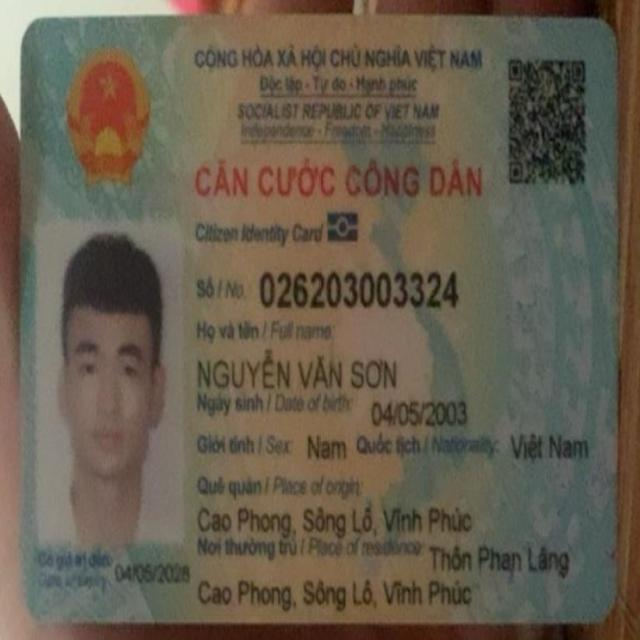current_place: (195, 573, 478, 620), (426, 538, 572, 581)
dob: (367, 393, 469, 430)
expire_date: (111, 556, 190, 592)
gender: (304, 428, 350, 472)
id: (256, 265, 464, 313)
name: (194, 343, 399, 392)
nationality: (508, 428, 592, 464)
origin_place: (193, 498, 477, 536)
qr: (503, 51, 595, 196)
